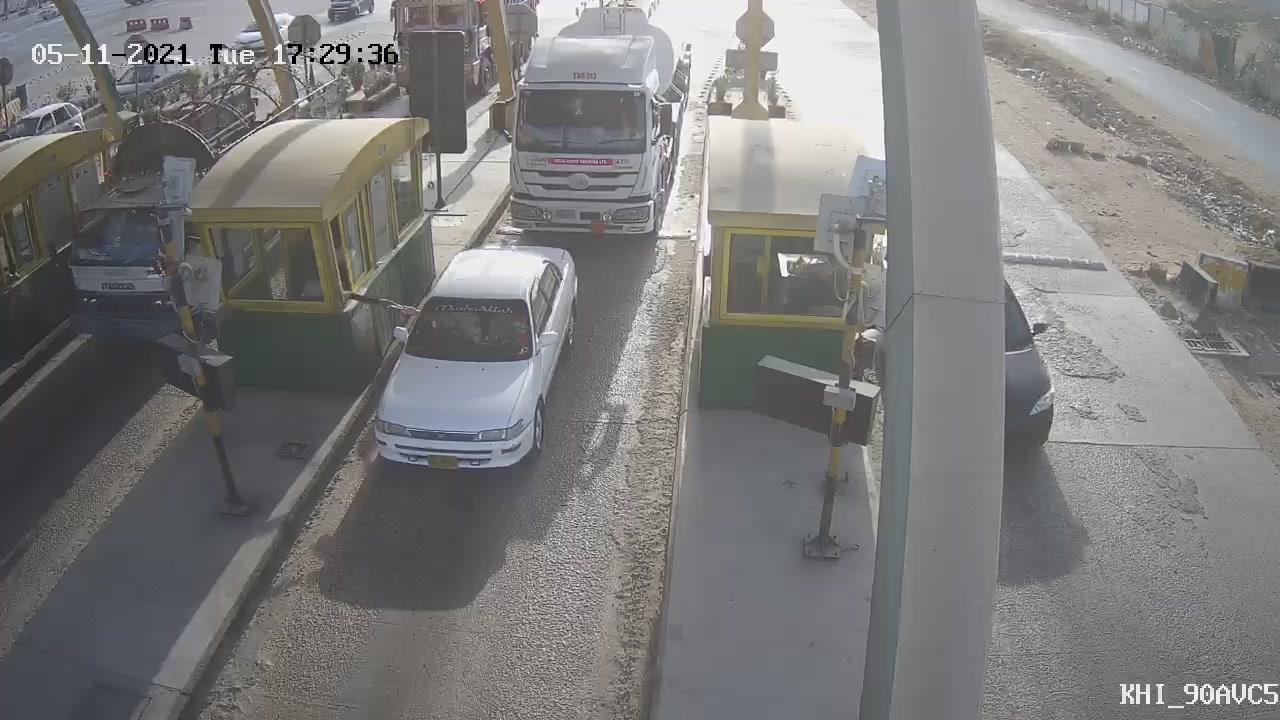F1: (357, 227, 600, 488)
